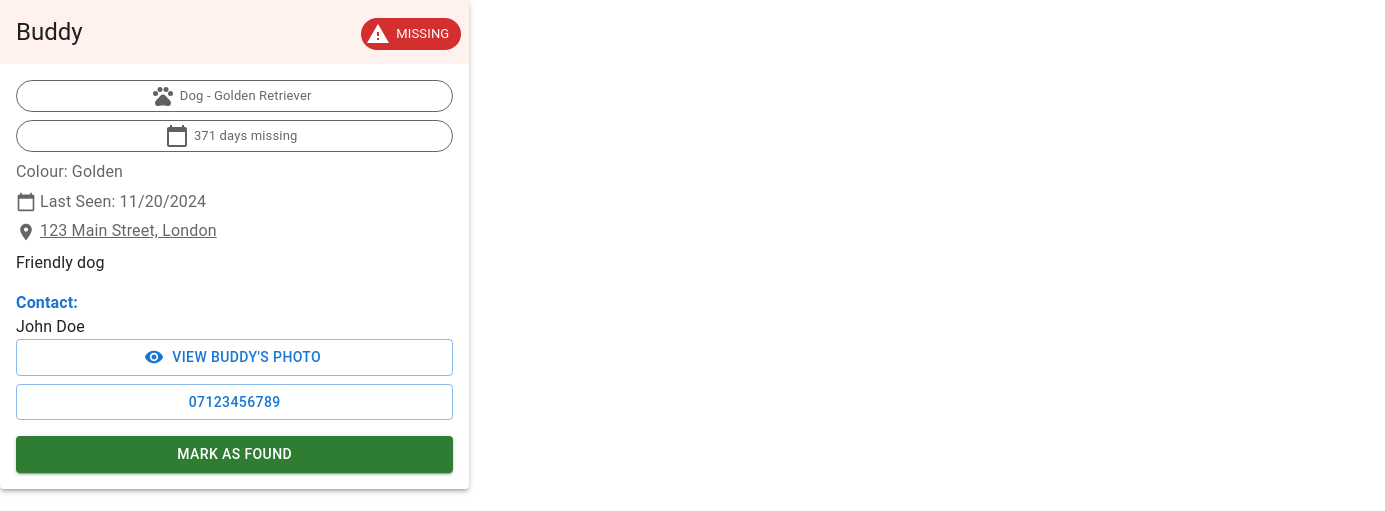
Test: PetList › Mark as Found Functionality › should close snackbar when close button is clicked
Click the button "Mark as Found": [235, 454] box [16,436,453,473]
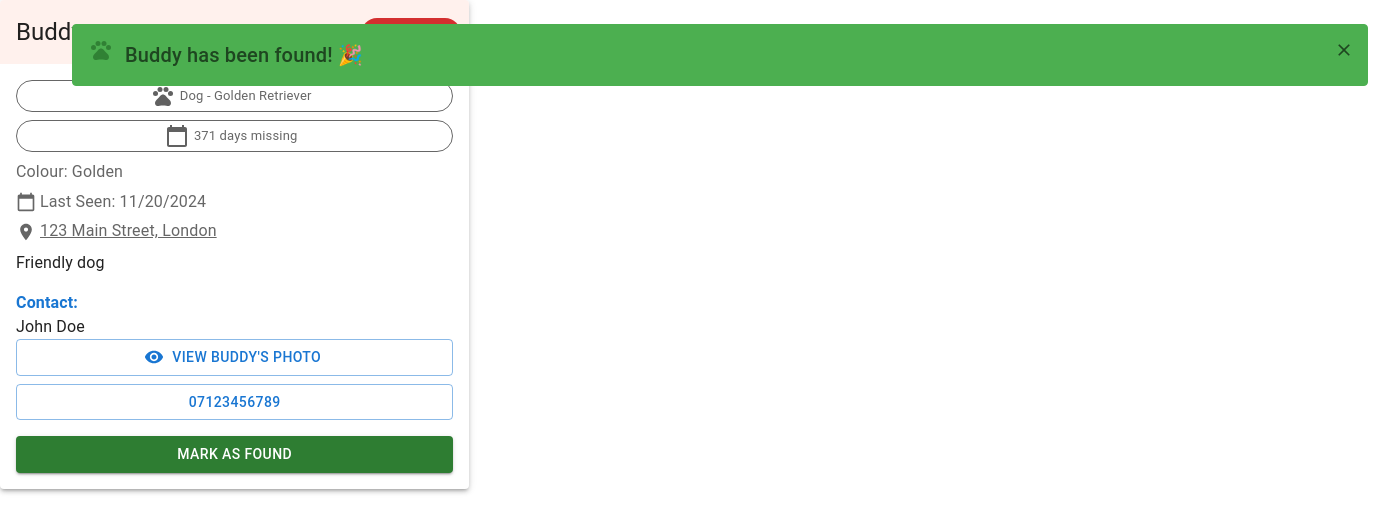
Now the heading "Buddy has been found! 🎉" is shown, box [125,39,363,71]
Click the button named "close": [1344, 50] box [1329,35,1359,65]
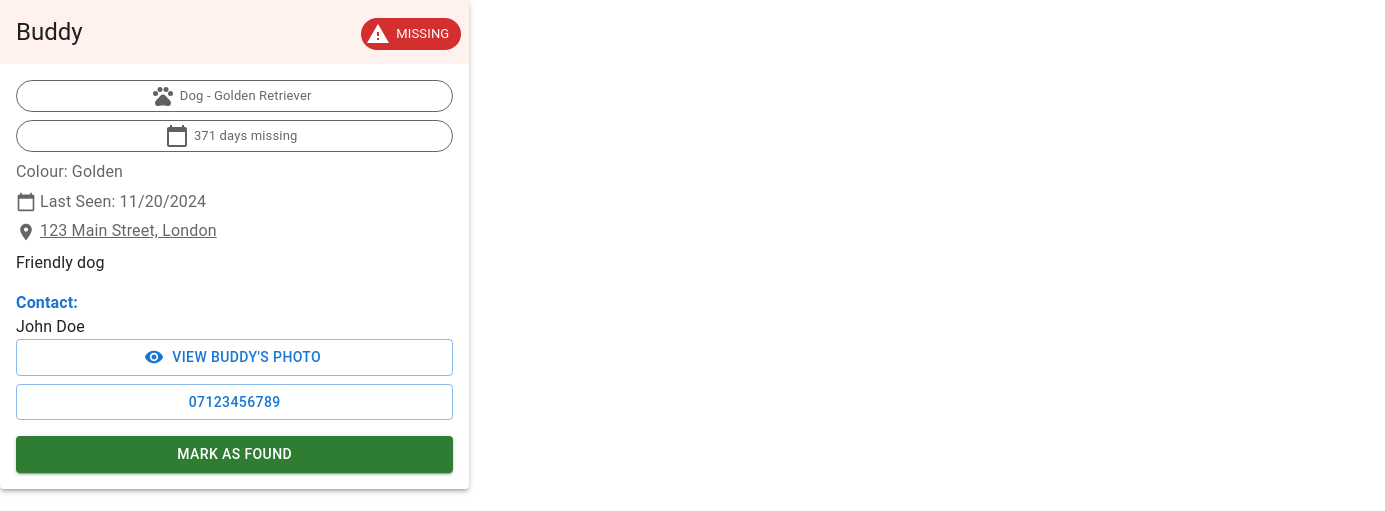
Now the heading "Buddy has been found! 🎉" is gone
